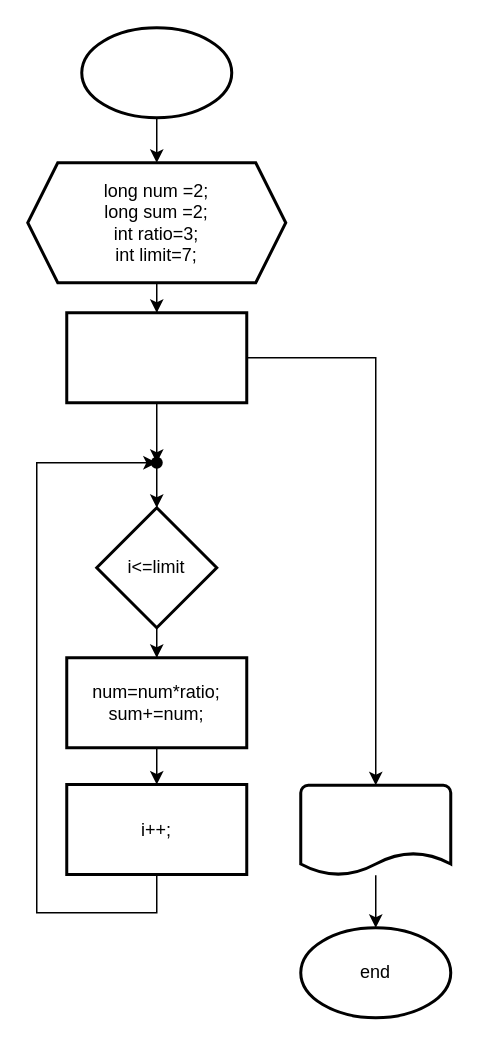
Some shapes in this 479 by 1044 pixel diagram are drawn without their labels. The shapes that lost their labels are listed below. From the top down, each one's centre as x and y in pixels, then its label:
[156,72]: start
[156,357]: int i =2;
[375,829]: sum 출력
